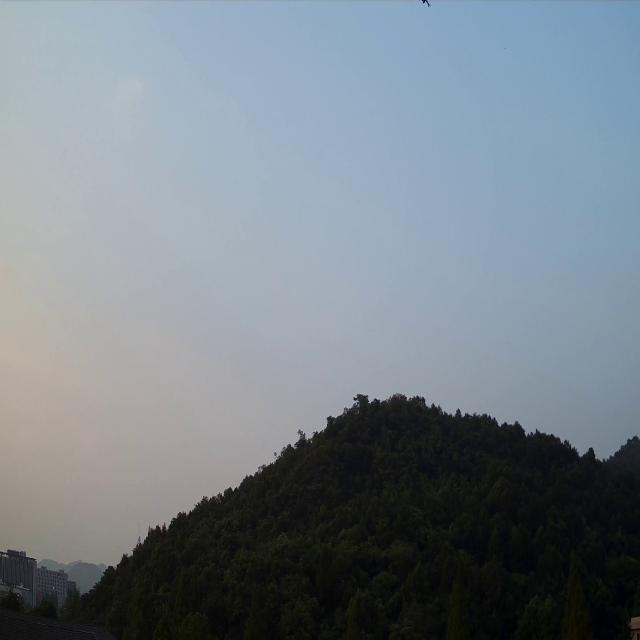UAV: (416, 0, 432, 9)
